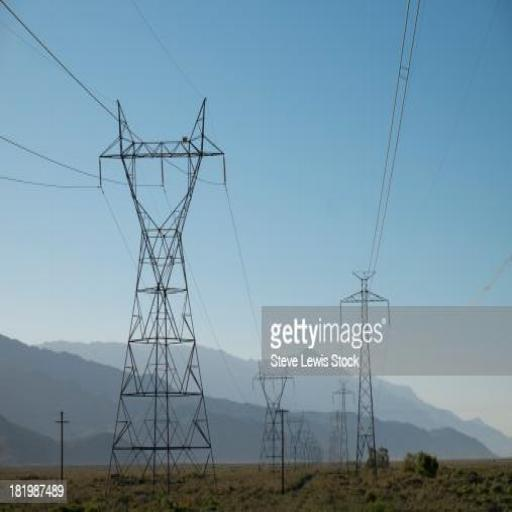mono_7: (56, 412, 68, 477)
ss_1: (339, 270, 391, 476), (332, 378, 356, 472)
wt_5: (97, 98, 220, 485), (252, 356, 294, 479), (285, 408, 305, 471)
